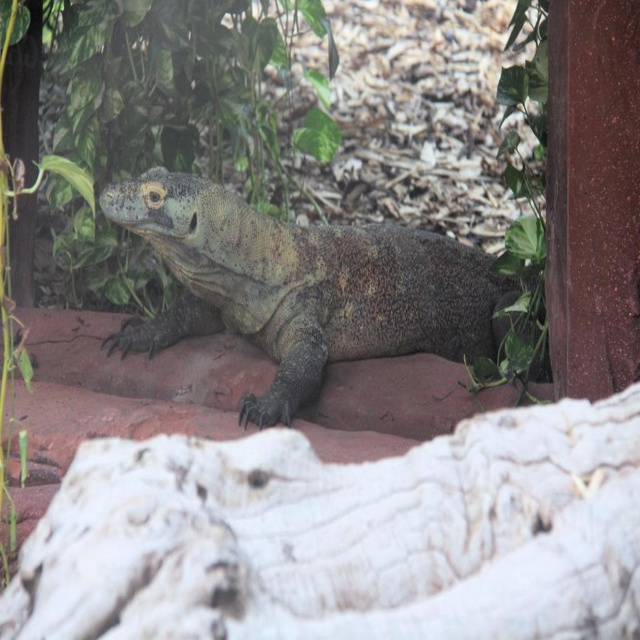Lizard: (99, 167, 553, 432)
